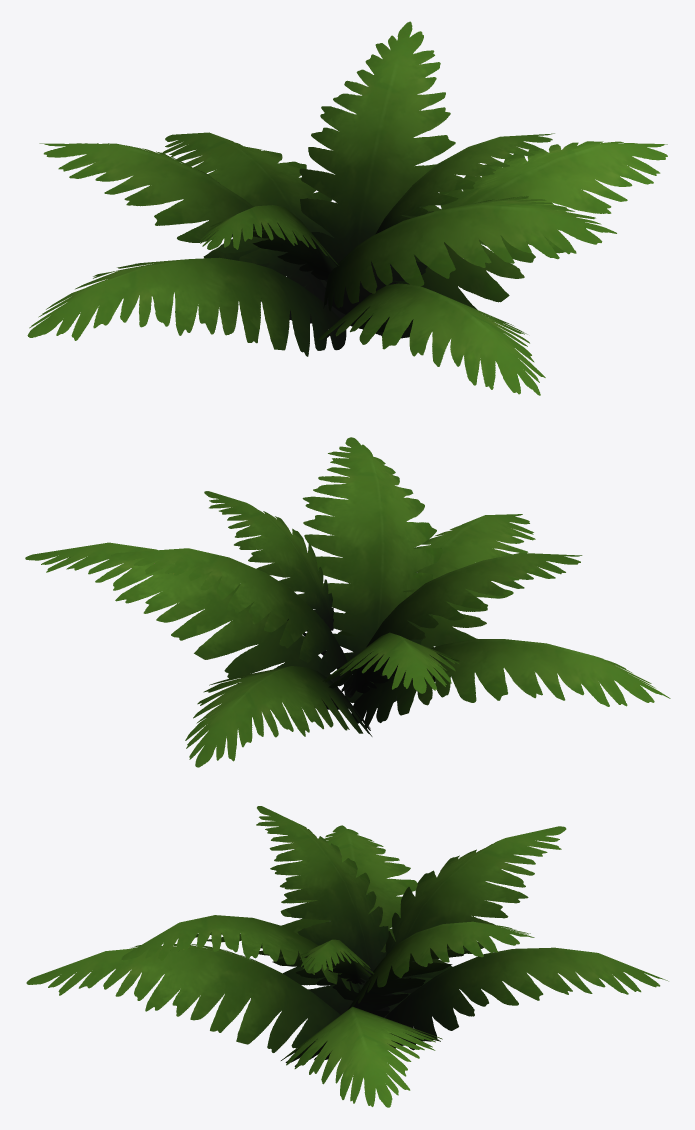
The model's file is Fern_1.gltf.
3 renders of one model, top to bottom at view 1: azimuth 30°, elevation 25°; view 2: azimuth 150°, elevation 25°; view 3: azimuth 270°, elevation 25°, orthographic. The views are drawn at different scales.
Parts seen in each view (by area): view 1: Fern_1; view 2: Fern_1; view 3: Fern_1.
Part boxes in pixels (x1,y1,x2,y2): Fern_1: (27,21,667,395); Fern_1: (25,437,670,767); Fern_1: (26,806,668,1107).
Bounding box in the file's own units: 2.83 × 0.8402 × 2.65.
1 material, 1 textured.
